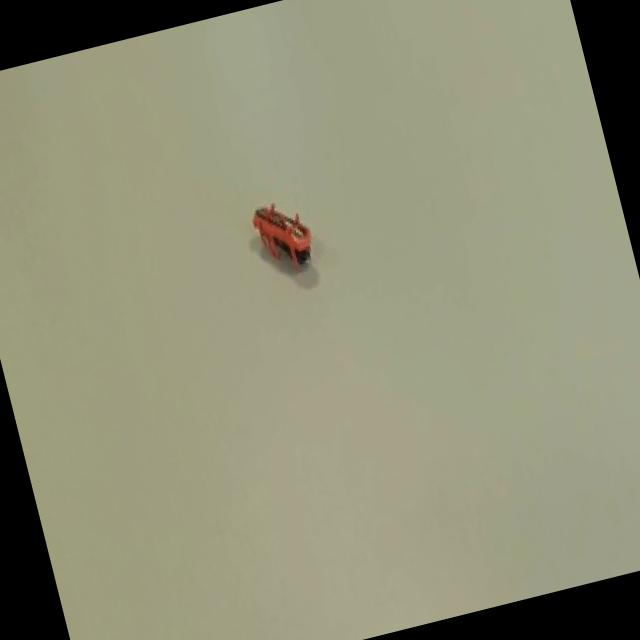7_NanoBug_Naranja: (209, 183, 346, 300)
